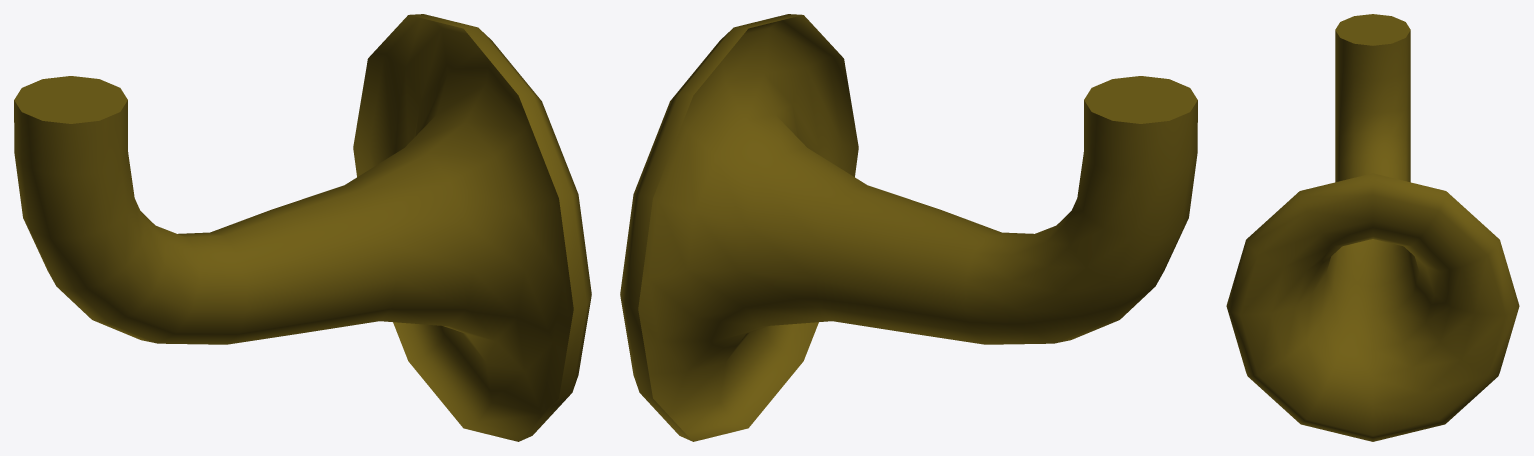
Rendered from CloudTankExhaust.obj.
3 renders of one model, left to right at view 1: azimuth 30°, elevation 25°; view 2: azimuth 150°, elevation 25°; view 3: azimuth 270°, elevation 25°, orthographic. The views are drawn at different scales.
Parts seen in each view (by area): view 1: SpewerEnding1 CloudSpewer1 CloudMaker1 IslandCloudFactory1 Archi; view 2: SpewerEnding1 CloudSpewer1 CloudMaker1 IslandCloudFactory1 Archi; view 3: SpewerEnding1 CloudSpewer1 CloudMaker1 IslandCloudFactory1 Archi.
Part boxes in pixels (left/top/right/bottom): SpewerEnding1 CloudSpewer1 CloudMaker1 IslandCloudFactory1 Archi: left=14, top=14, right=591, bottom=441; SpewerEnding1 CloudSpewer1 CloudMaker1 IslandCloudFactory1 Archi: left=620, top=14, right=1197, bottom=441; SpewerEnding1 CloudSpewer1 CloudMaker1 IslandCloudFactory1 Archi: left=1226, top=14, right=1519, bottom=441.
Size of the model in its own units: 33.74 by 29.09 by 27.42.
